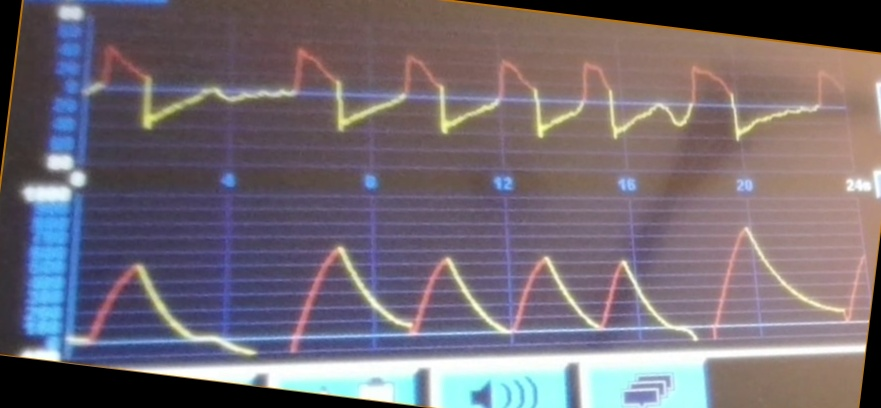Ineffective_effort Flow: (92, 40, 841, 155)
Ineffective_effort Volume: (79, 219, 862, 356)
